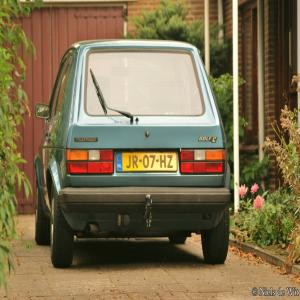Vehicle-registration-plate: (117, 153, 178, 175)
